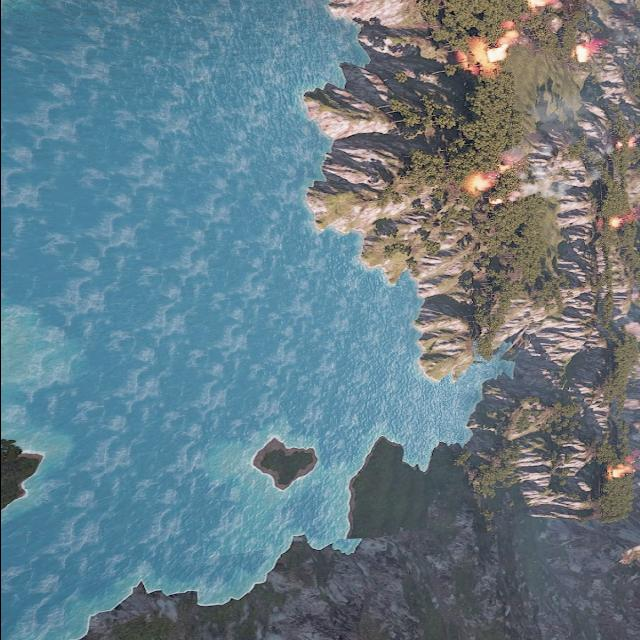fire: (461, 30, 518, 74), (606, 462, 636, 480), (572, 44, 594, 62), (474, 178, 491, 194), (526, 0, 562, 7), (608, 218, 620, 228), (627, 137, 637, 149), (612, 140, 622, 150), (489, 198, 500, 206), (496, 165, 506, 172)
smoke: (510, 142, 572, 202), (596, 32, 632, 50), (621, 205, 640, 223)
